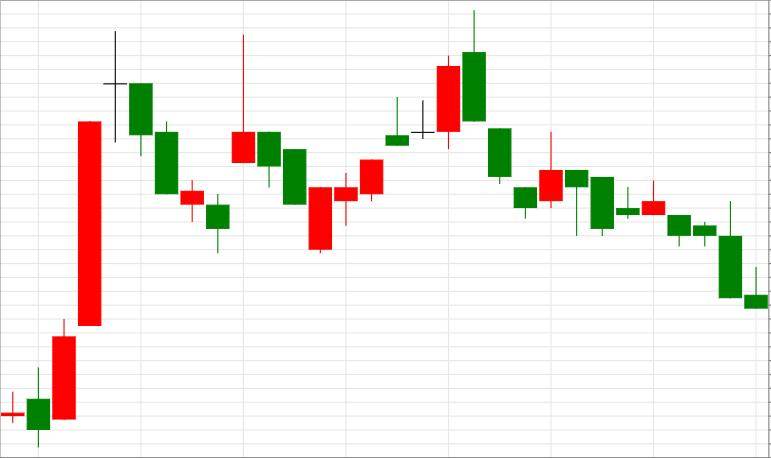three_black_crows_fall: (309, 9, 537, 254)
